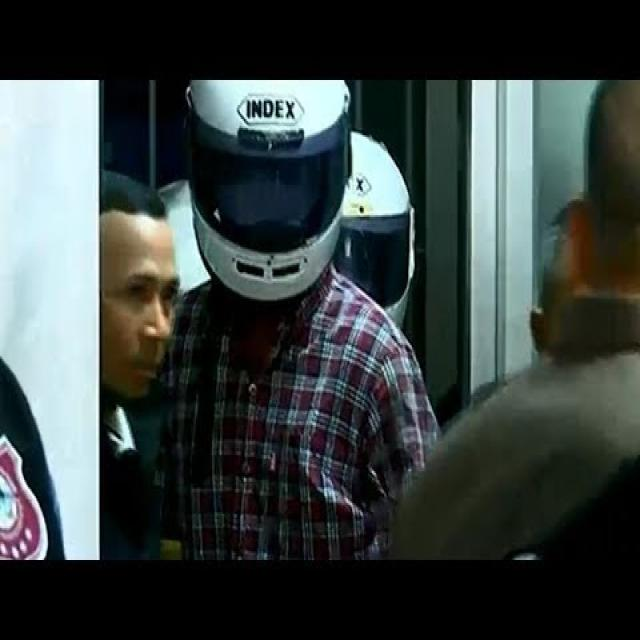helmet: (179, 73, 347, 309), (333, 134, 431, 338)
